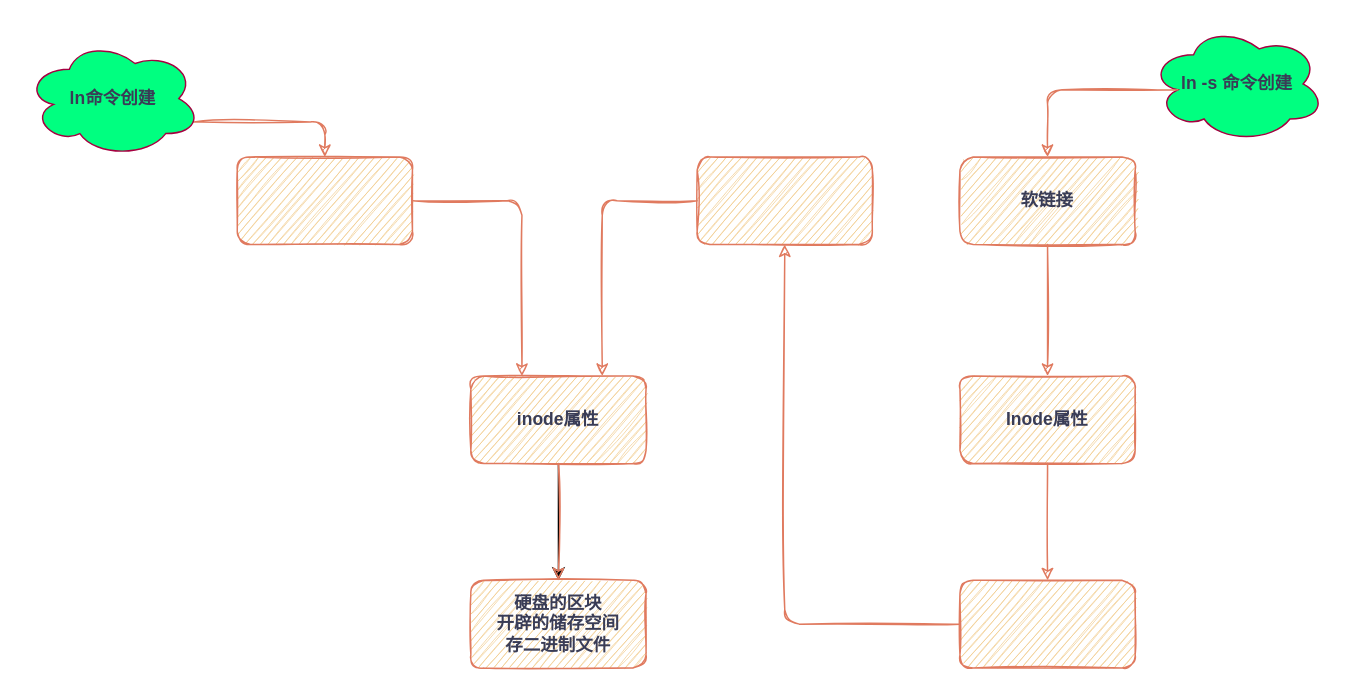
The diagram is 1351 pixels wide and 694 high, and some of its shapes have lost their labels. The shapes that lost their labels are listed below. From the top down, each one's centre as x and y in pixels, then its label:
point 324,200: 硬链接
point 784,200: 源文件
point 1046,623: 硬盘的区块 开辟的储存空间 存路径信息
